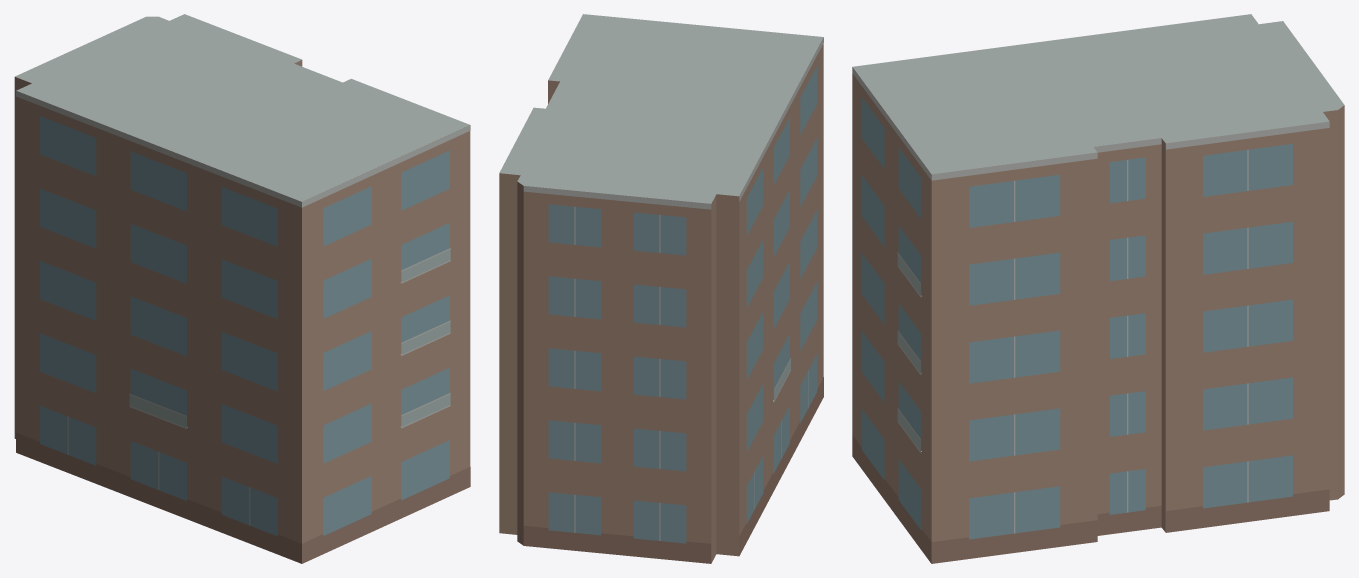
The model's file is survey-upis-32610700.glb.
3 renders of one model, left to right at view 1: azimuth 30°, elevation 25°; view 2: azimuth 150°, elevation 25°; view 3: azimuth 270°, elevation 25°, orthographic. The views are drawn at different scales.
Parts seen in each view (by area): view 1: survey-upis-32610700.tmp; view 2: survey-upis-32610700.tmp; view 3: survey-upis-32610700.tmp.
Part boxes in pixels (left/top/right/bottom): survey-upis-32610700.tmp: left=14, top=14, right=470, bottom=563; survey-upis-32610700.tmp: left=499, top=14, right=823, bottom=563; survey-upis-32610700.tmp: left=852, top=14, right=1344, bottom=563.
Size of the model in its own units: 13.48 by 15.25 by 17.48.
